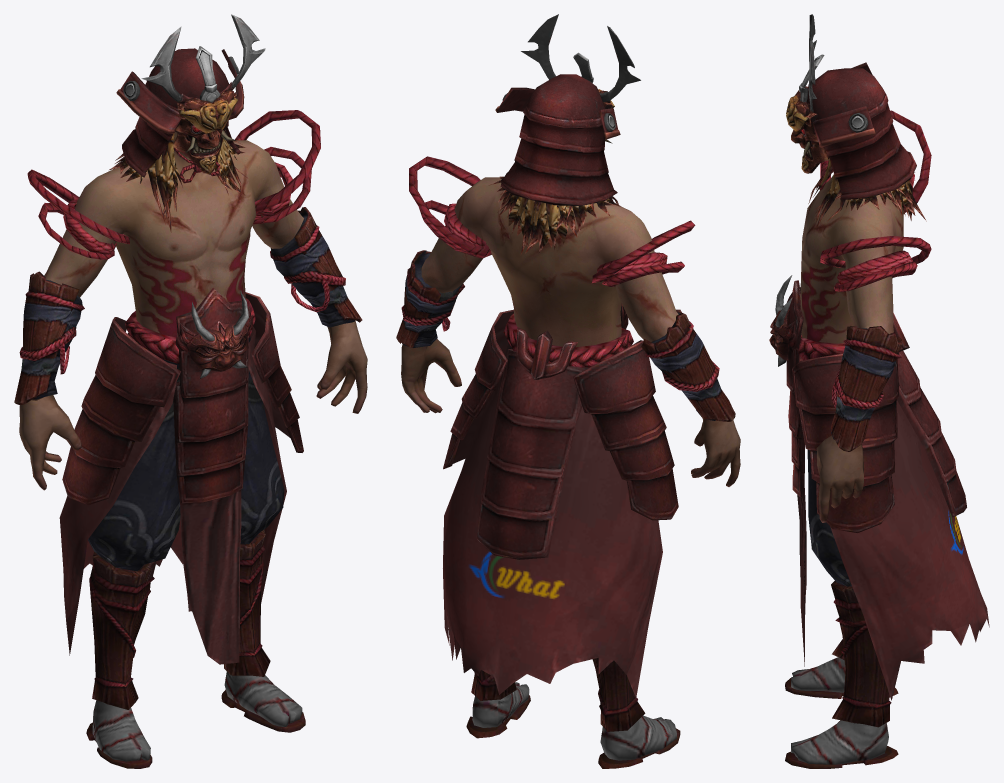
The model's file is Boss Samurai.obj.
3 renders of one model, left to right at view 1: azimuth 30°, elevation 25°; view 2: azimuth 150°, elevation 25°; view 3: azimuth 270°, elevation 25°, orthographic. The views are drawn at different scales.
Parts seen in each view (by area): view 1: Cloth_BOSS_Samurai_cloth.001, Body_BOSS_Samurai_cloth.002, Head_BOSS_Samurai_cloth; view 2: Cloth_BOSS_Samurai_cloth.001, Body_BOSS_Samurai_cloth.002, Head_BOSS_Samurai_cloth; view 3: Cloth_BOSS_Samurai_cloth.001, Head_BOSS_Samurai_cloth, Body_BOSS_Samurai_cloth.002.
Boxes of the visible parts, left/top/right/bottom form: Cloth_BOSS_Samurai_cloth.001: left=14, top=110, right=362, bottom=768; Body_BOSS_Samurai_cloth.002: left=19, top=132, right=367, bottom=490; Head_BOSS_Samurai_cloth: left=109, top=14, right=265, bottom=232; Cloth_BOSS_Samurai_cloth.001: left=396, top=156, right=735, bottom=768; Body_BOSS_Samurai_cloth.002: left=401, top=177, right=740, bottom=486; Head_BOSS_Samurai_cloth: left=489, top=14, right=640, bottom=254; Cloth_BOSS_Samurai_cloth.001: left=769, top=110, right=989, bottom=768; Head_BOSS_Samurai_cloth: left=786, top=14, right=926, bottom=228; Body_BOSS_Samurai_cloth.002: left=800, top=158, right=903, bottom=522.
Size of the model in its own units: 1.31 by 2.61 by 0.748.
Materials: 3 (3 with a texture image).
